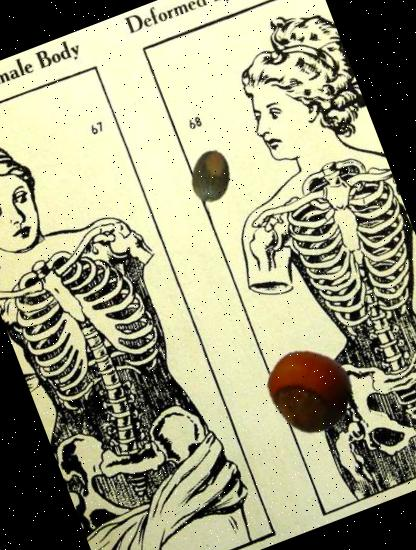Melon: (180, 143, 248, 211)
Nut: (255, 338, 362, 445)
